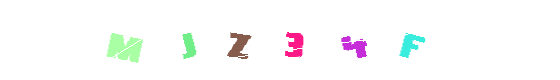3: (255, 0, 335, 80)
4: (313, 0, 393, 80)
F: (370, 0, 450, 80)
J: (199, 0, 279, 80)
M: (109, 0, 189, 80)
Z: (241, 0, 321, 80)
